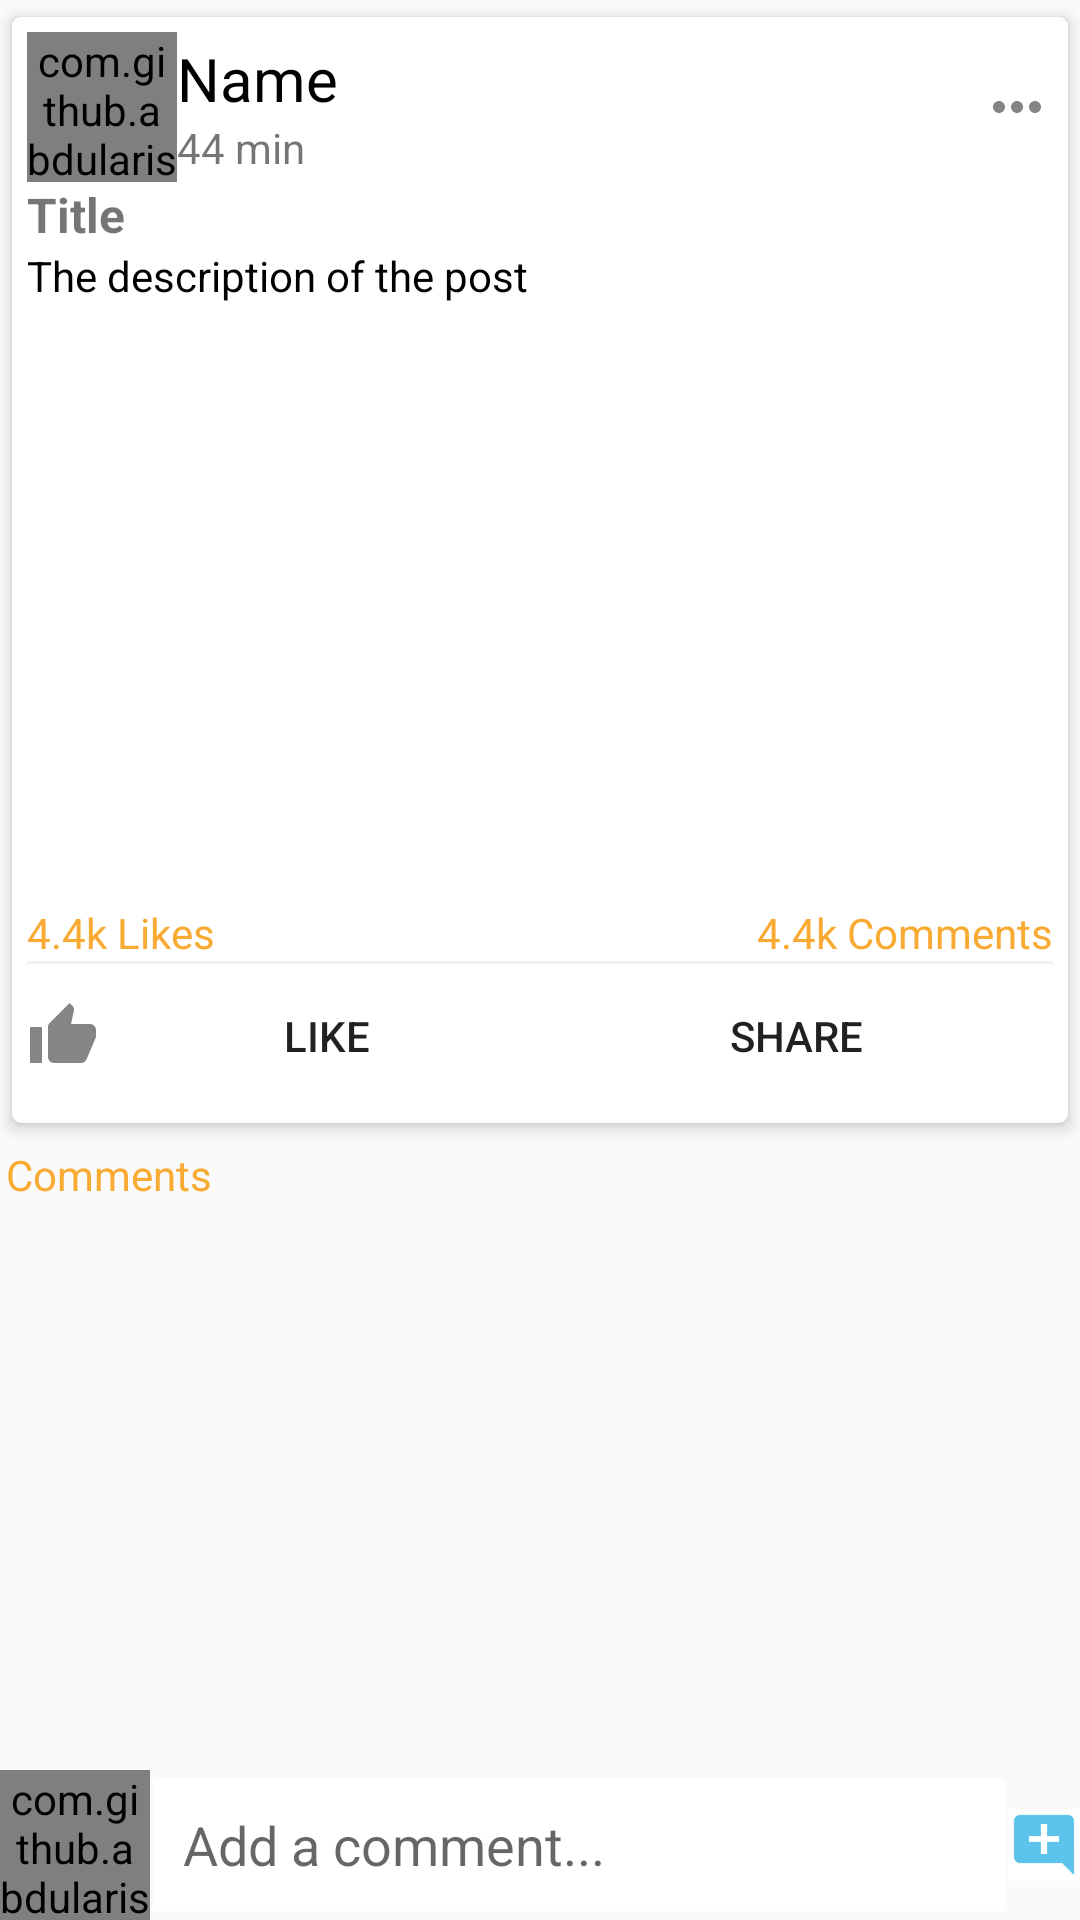

Where to tap for icons on this 1080x1920 app screen, as point (x, y):
more: point (1017, 107)
